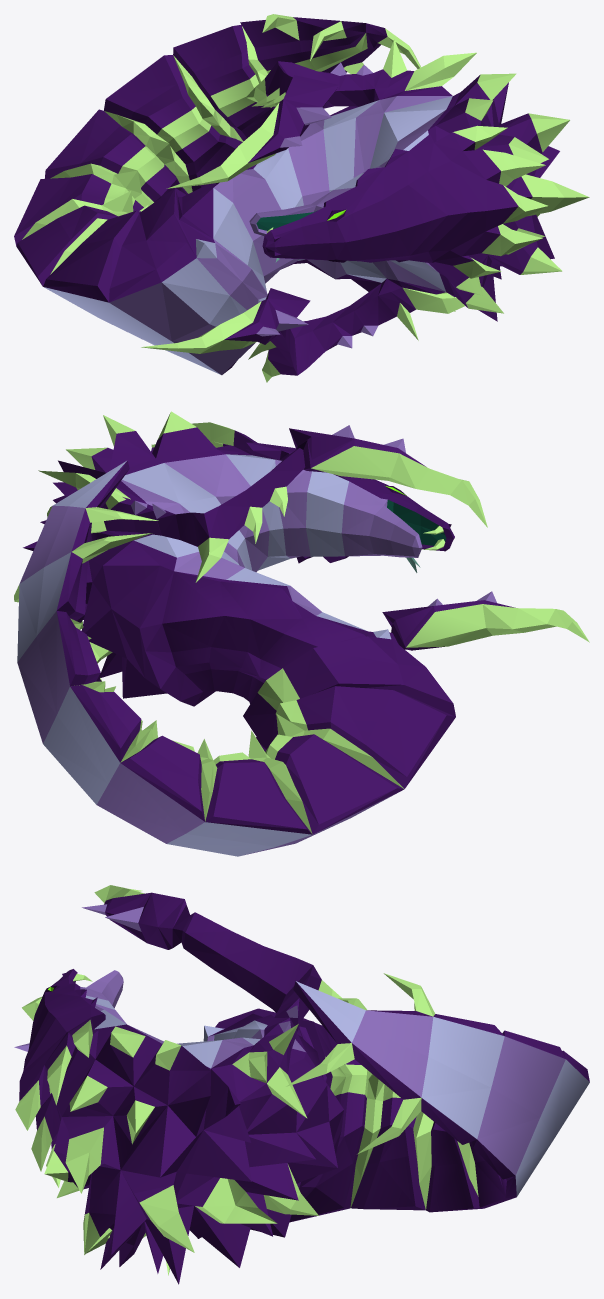
The model's file is Dead (29).obj.
3 renders of one model, top to bottom at view 1: azimuth 30°, elevation 25°; view 2: azimuth 150°, elevation 25°; view 3: azimuth 270°, elevation 25°, orthographic. The views are drawn at different scales.
Parts seen in each view (by area): view 1: Alien_Serpent; view 2: Alien_Serpent; view 3: Alien_Serpent.
Boxes of the visible parts, <box> form: Alien_Serpent: <box>14,14,589,382</box>; Alien_Serpent: <box>14,411,589,856</box>; Alien_Serpent: <box>14,885,589,1284</box>.
Size of the model in its own units: 238 by 158 by 235.
1 material, 1 textured.
